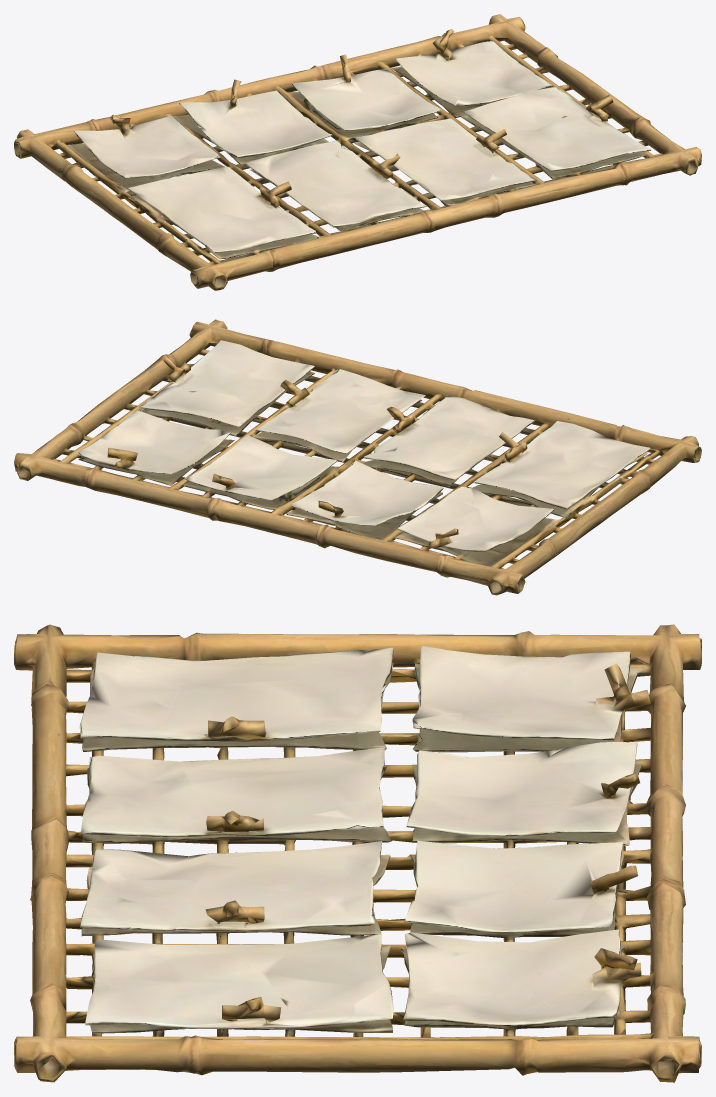
File: phen-phoi-giay-vua.11396d6c.glb
The picture shows the model from 3 angles, top to bottom: view 1: azimuth 30°, elevation 25°; view 2: azimuth 150°, elevation 25°; view 3: azimuth 270°, elevation 25°; orthographic projection. The views are drawn at different scales.
Parts seen in each view (by area): view 1: tripo_node_dac47110-188c-4509-a35a-391faa7430d2; view 2: tripo_node_dac47110-188c-4509-a35a-391faa7430d2; view 3: tripo_node_dac47110-188c-4509-a35a-391faa7430d2.
Part boxes in pixels (x1,y1,x2,y2): tripo_node_dac47110-188c-4509-a35a-391faa7430d2: (14, 14, 701, 290); tripo_node_dac47110-188c-4509-a35a-391faa7430d2: (14, 319, 701, 595); tripo_node_dac47110-188c-4509-a35a-391faa7430d2: (14, 624, 701, 1082).
Bounding box in the file's own units: 0.9858 × 0.0681 × 0.6663.
Materials: 1 (1 with a texture image).
